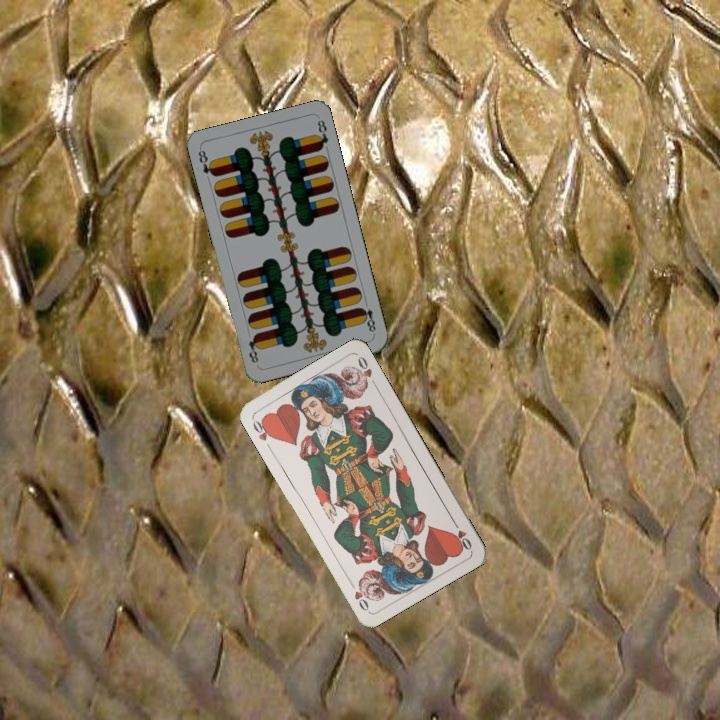E8: (356, 297, 378, 337), (194, 146, 218, 179)
HO: (448, 516, 474, 553), (248, 414, 277, 444)
